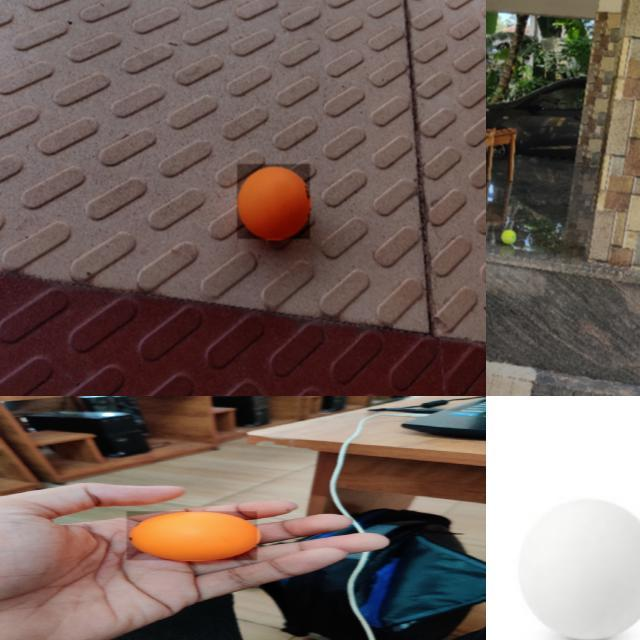ping-pong-ball: (126, 511, 258, 561), (236, 164, 312, 240)
